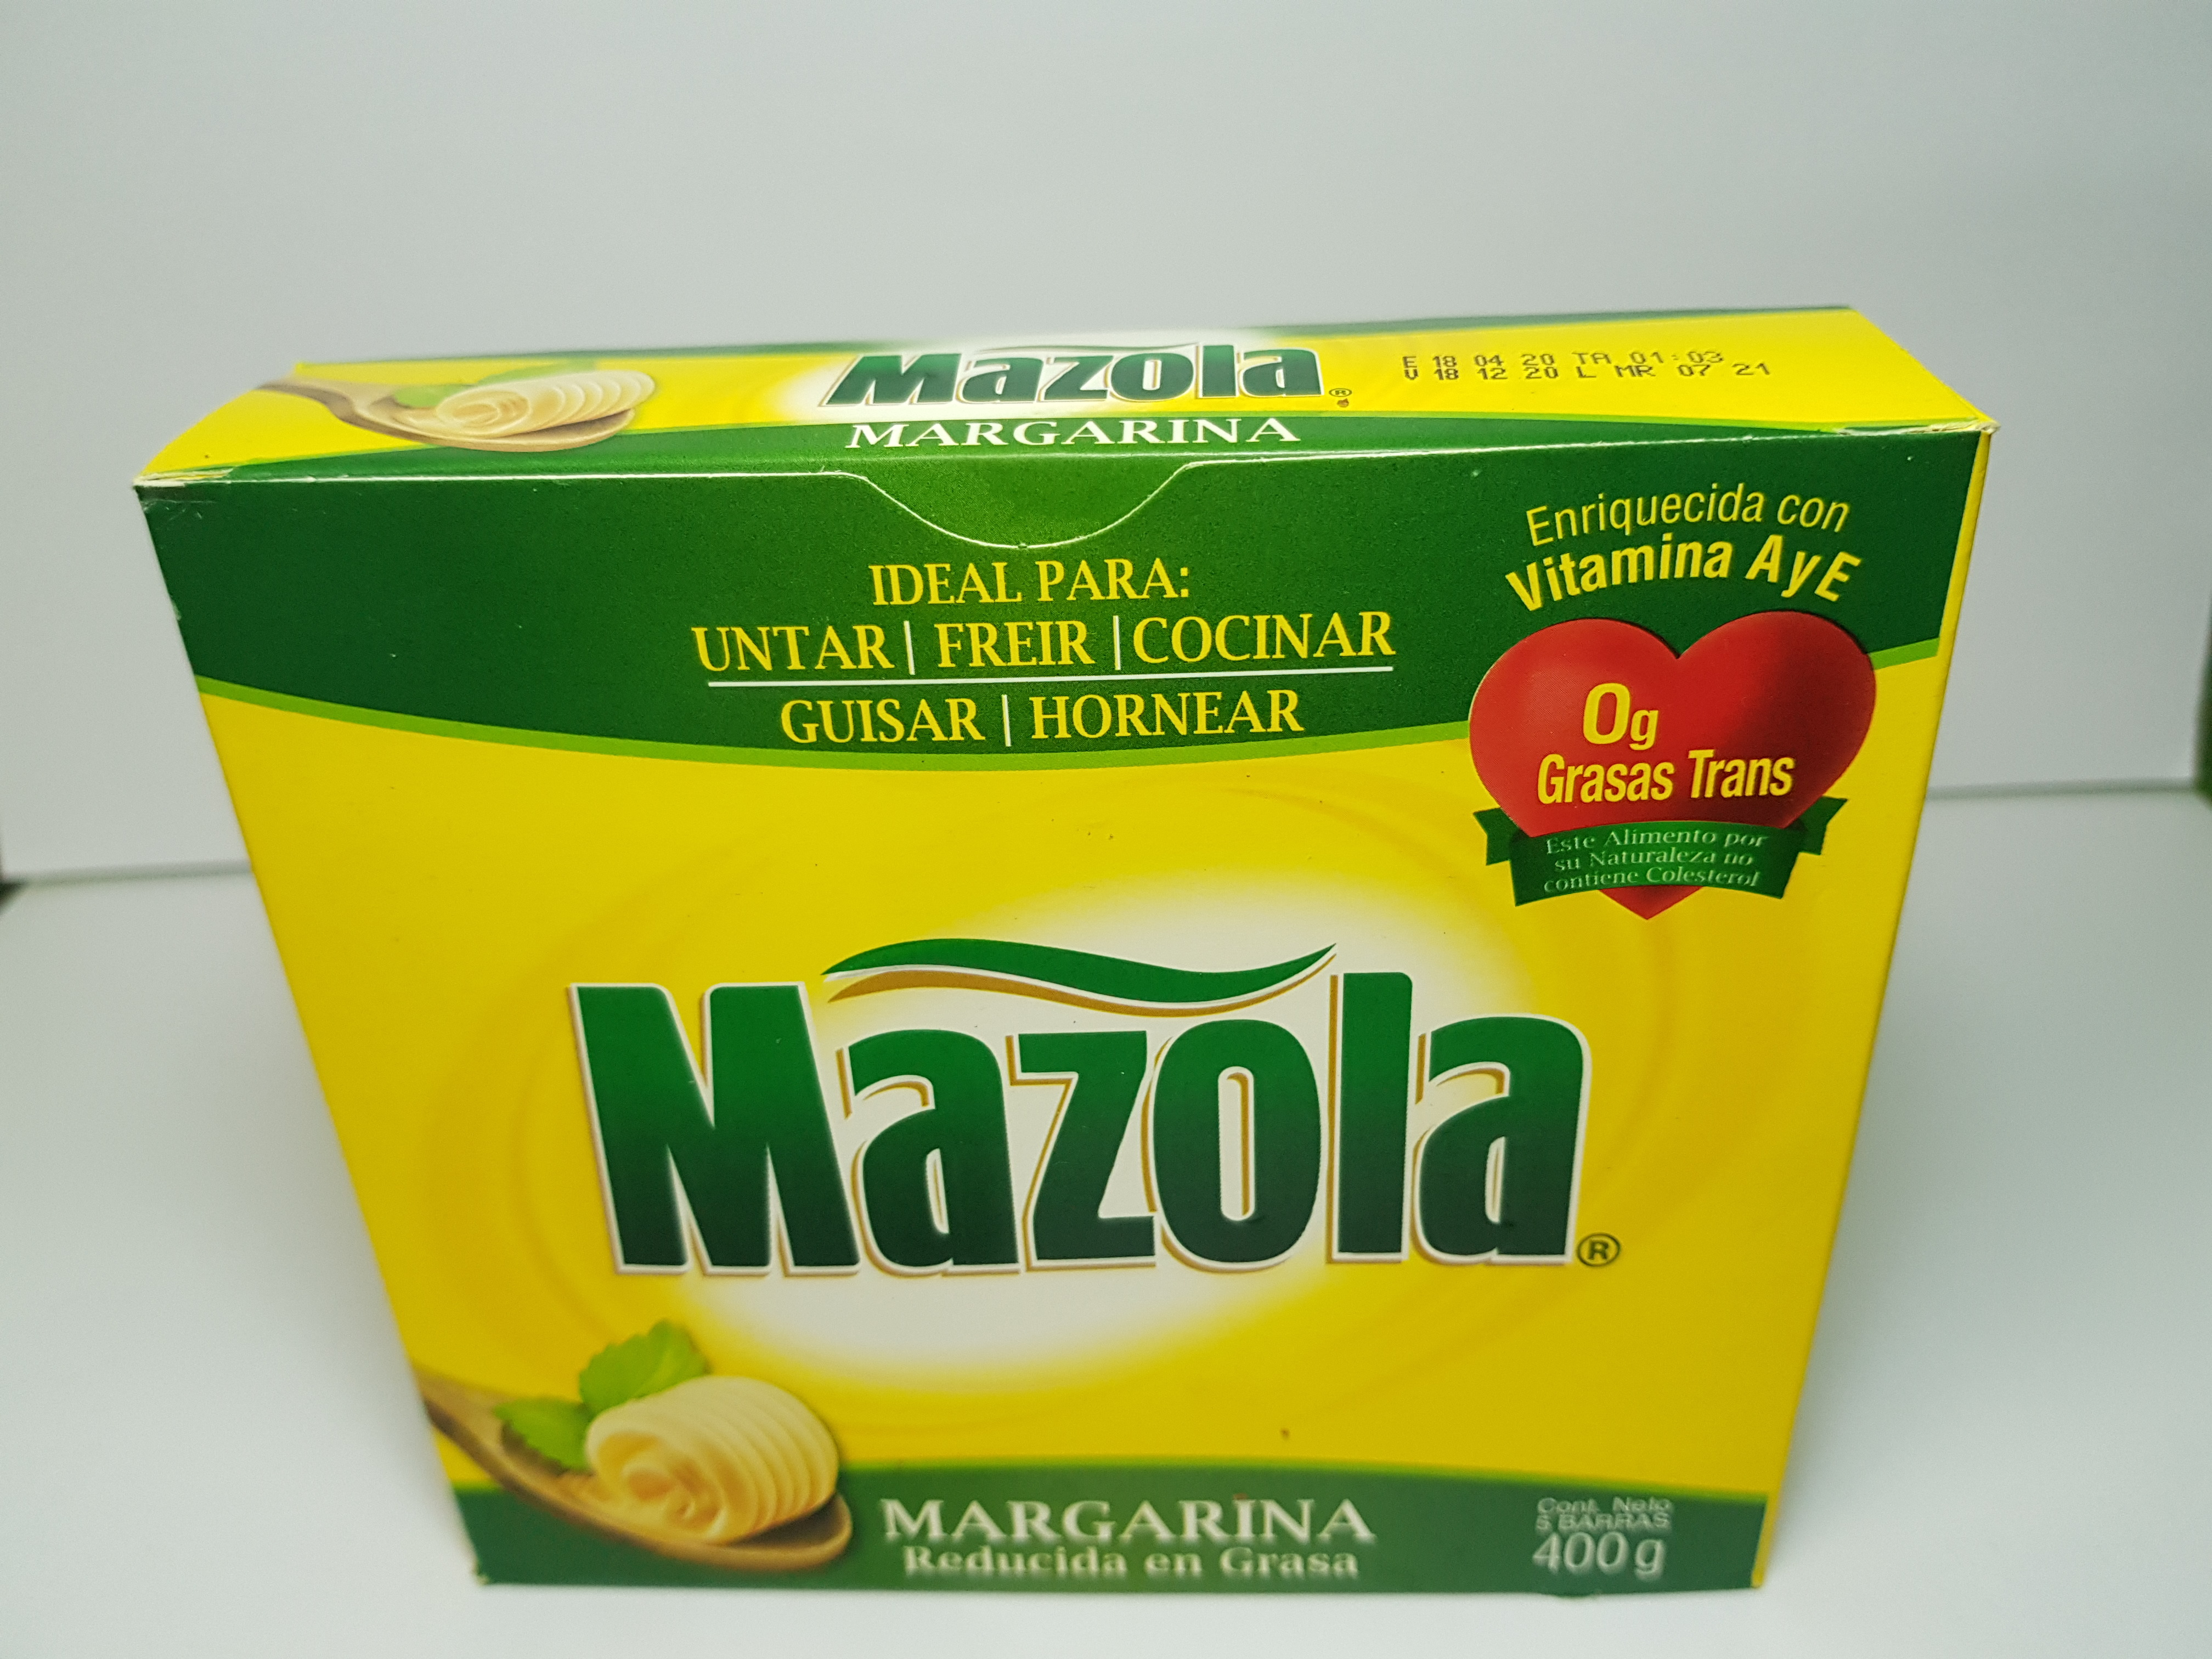mazola: (101, 284, 2012, 1638)
